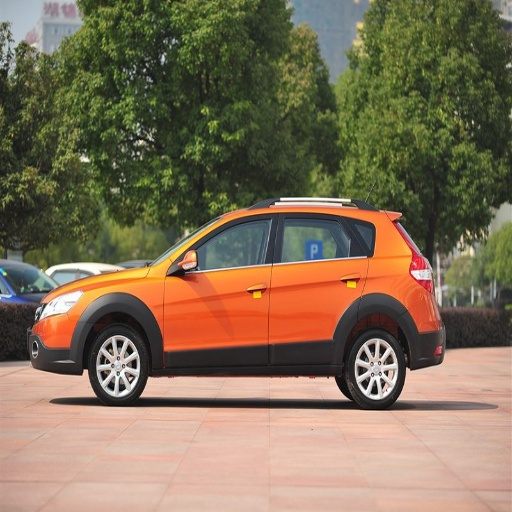back_left_door: (270, 210, 365, 361)
front_left_door: (163, 212, 277, 363)
